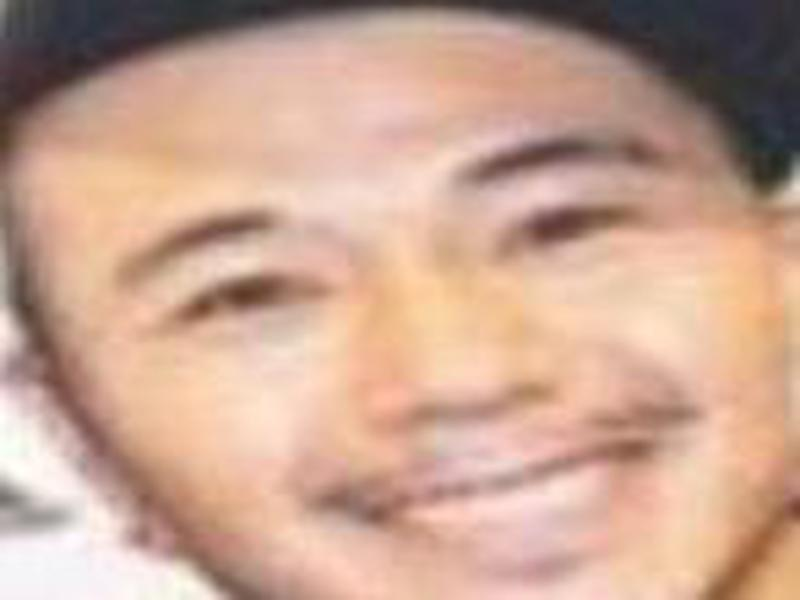without_mask: (29, 72, 753, 591)
